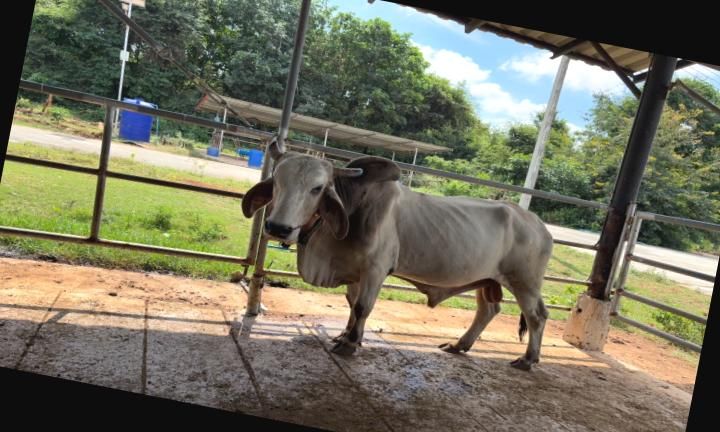Brahman: (242, 141, 552, 369)
